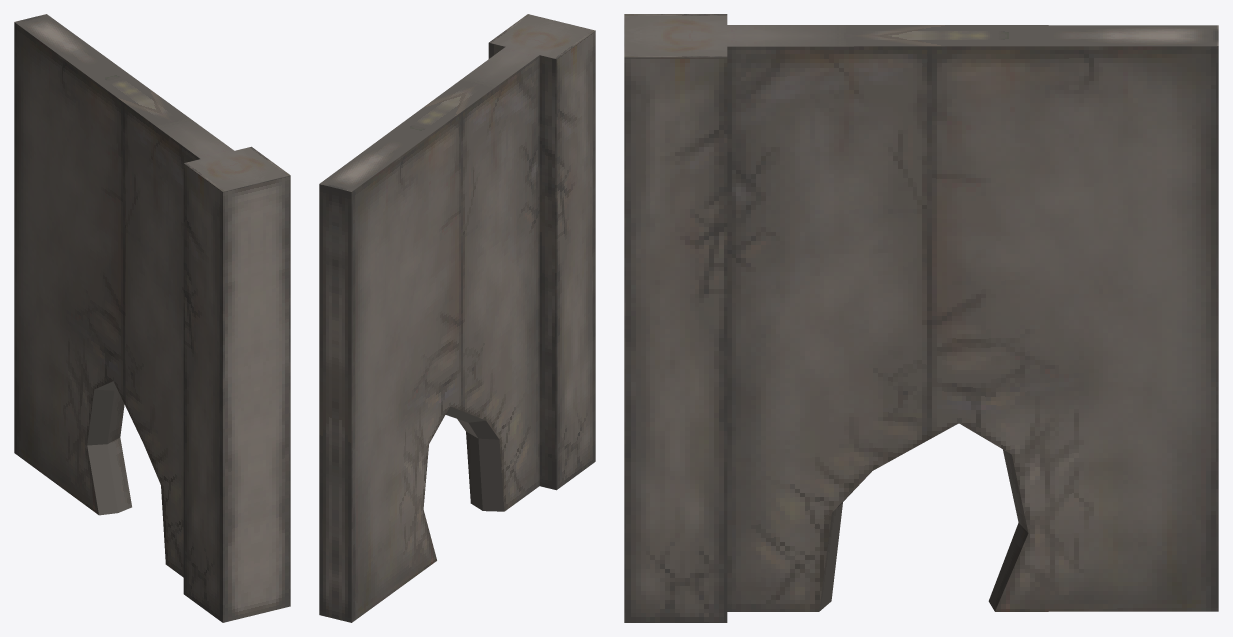
File: wall2hole.glb
3 renders of one model, left to right at view 1: azimuth 30°, elevation 25°; view 2: azimuth 150°, elevation 25°; view 3: azimuth 270°, elevation 25°, orthographic. The views are drawn at different scales.
Parts seen in each view (by area): view 1: Cube.149; view 2: Cube.149; view 3: Cube.149.
Boxes of the visible parts, x1,y1,x2,y2 form: Cube.149: (14, 14, 290, 622); Cube.149: (319, 14, 595, 622); Cube.149: (624, 14, 1218, 622).
Bounding box in the file's own units: 0.81 × 4.91 × 4.68.
1 material, 1 textured.
